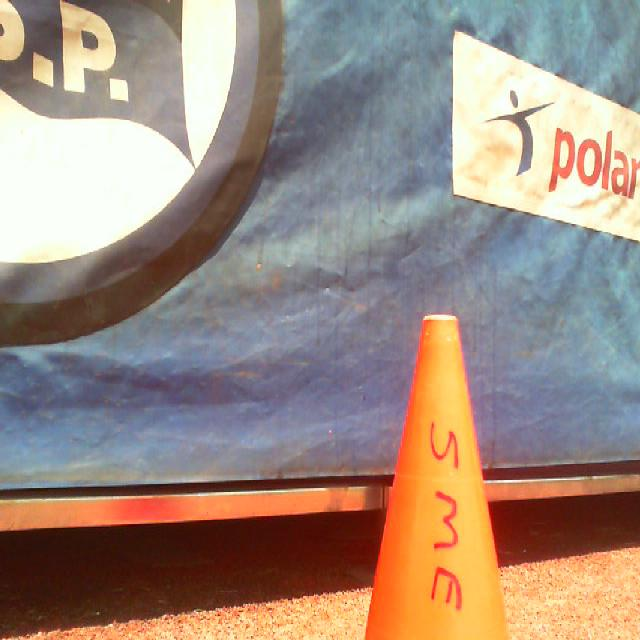cone: (363, 314, 506, 640)
